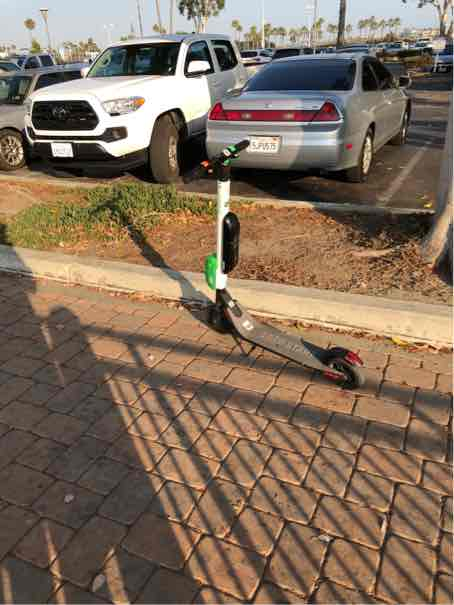scooter: (171, 138, 379, 396)
